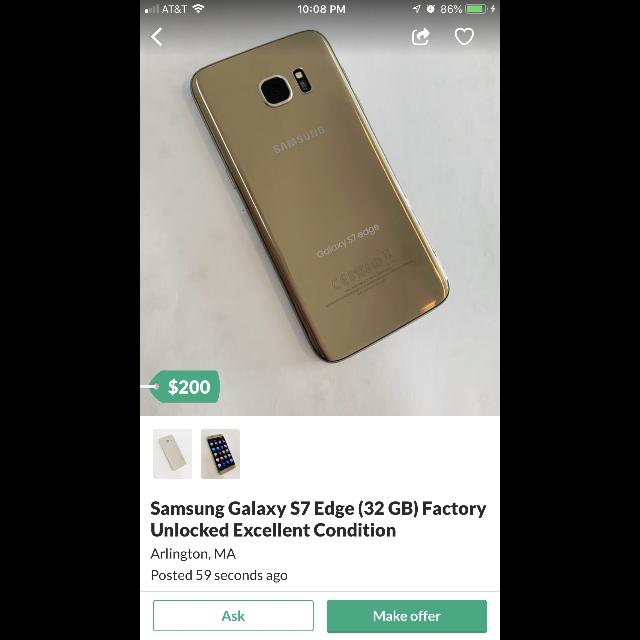icon: (454, 28, 474, 46), (412, 28, 430, 46), (152, 28, 162, 46)
image: (140, 1, 500, 416), (202, 428, 240, 479), (154, 429, 192, 479)
text: (151, 501, 487, 537), (152, 570, 288, 582), (150, 548, 236, 562)
textbutton: (327, 600, 487, 634), (153, 600, 313, 632)
uppertaskbar: (140, 0, 500, 14)
